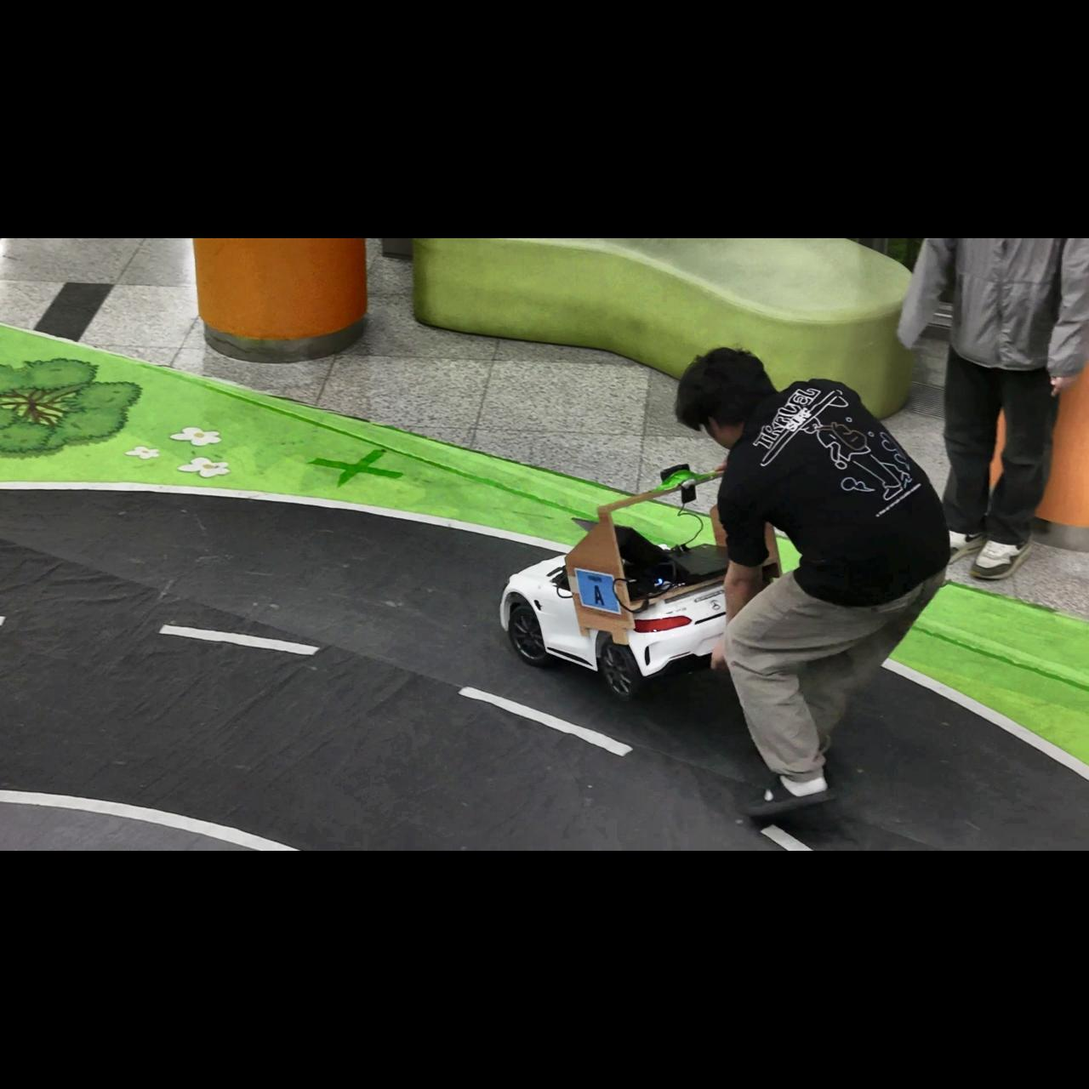broken_line: (459, 687, 634, 757), (159, 624, 321, 655), (761, 825, 812, 850), (0, 615, 6, 626)
